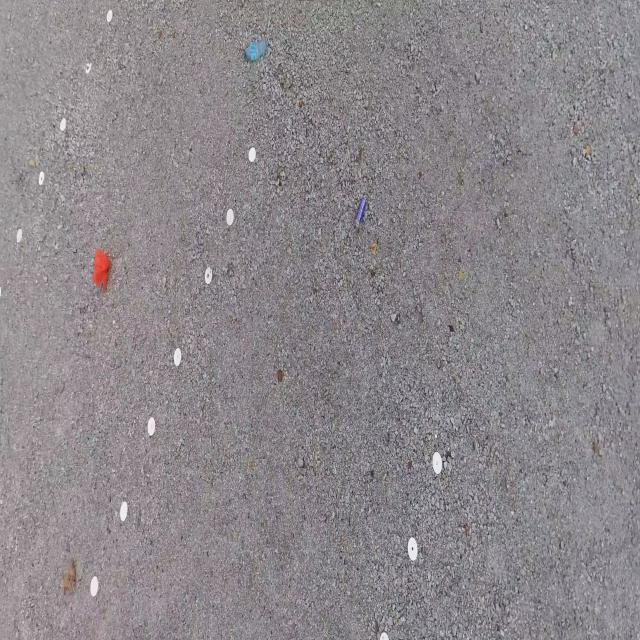rubbish: (90, 249, 112, 292), (243, 36, 269, 62), (63, 562, 76, 598), (355, 197, 367, 229), (278, 370, 282, 382)
